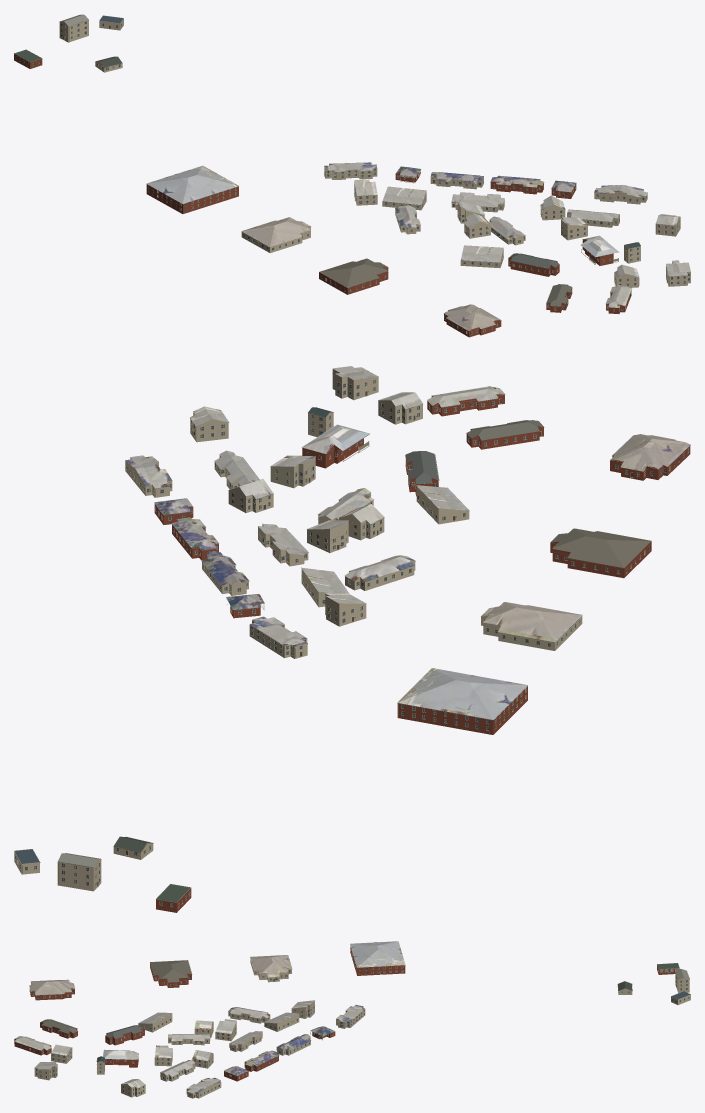
3 views of the same model, one above another, from view 1: azimuth 30°, elevation 25°; view 2: azimuth 150°, elevation 25°; view 3: azimuth 270°, elevation 25° (orthographic). The views are drawn at different scales.
Parts seen in each view (by area): view 1: -1_5_599062038_1, -1_5_599061756_0, -1_5_603141834_3; view 2: -1_5_599062038_1, -1_5_599061756_0, -1_5_603141834_3; view 3: -1_5_599062038_1, -1_5_599061756_0, -1_5_603141834_3.
Boxes of the visible parts, x1,y1,x2,y2 form: -1_5_599062038_1: (63,25,690,330); -1_5_599061756_0: (14,14,690,337); -1_5_603141834_3: (59,19,690,287); -1_5_599062038_1: (97,366,690,886); -1_5_599061756_0: (14,374,690,912); -1_5_603141834_3: (14,369,582,891); -1_5_599062038_1: (14,941,405,1097); -1_5_599061756_0: (14,946,690,1097); -1_5_603141834_3: (34,960,690,1098).
Size of the model in its own units: 271 by 18.49 by 528.
Materials: 13 (1 with a texture image).
